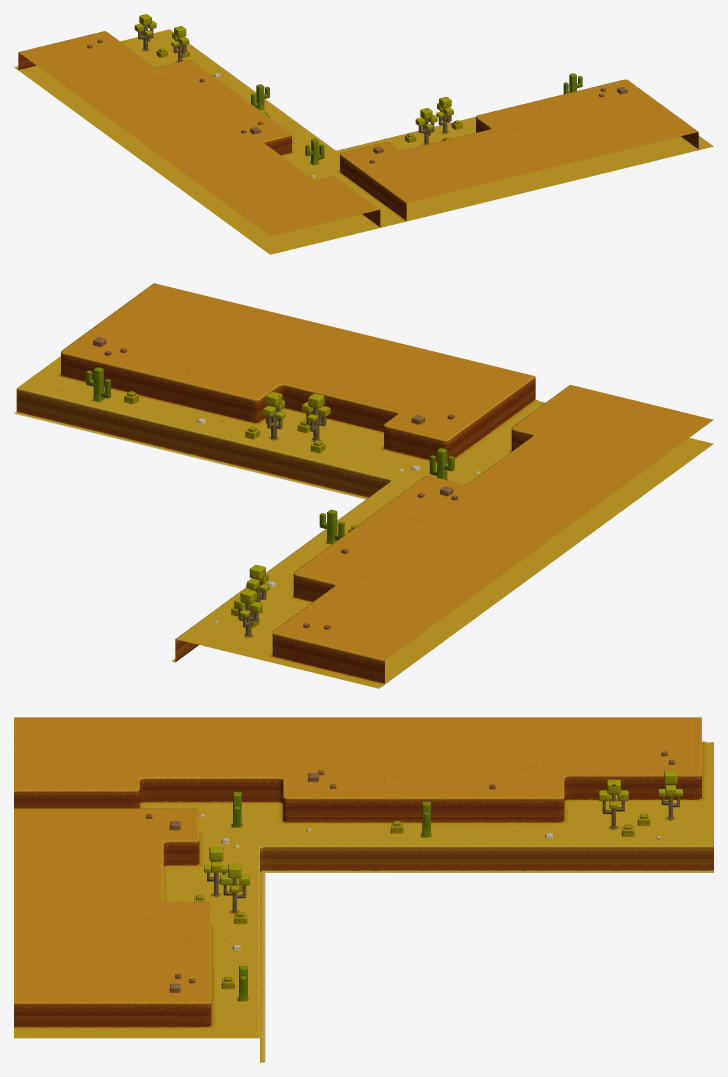
Rendered from C_mountain1_out_RU.fbx.
The picture shows the model from 3 angles, top to bottom: view 1: azimuth 30°, elevation 25°; view 2: azimuth 150°, elevation 25°; view 3: azimuth 270°, elevation 25°; orthographic projection. The views are drawn at different scales.
Visible parts, largest first — view 1: C_mountain1_out_RU; view 2: C_mountain1_out_RU; view 3: C_mountain1_out_RU.
Boxes of the visible parts, <box> form: C_mountain1_out_RU: <box>14,14,713,254</box>; C_mountain1_out_RU: <box>14,283,713,688</box>; C_mountain1_out_RU: <box>14,717,713,1062</box>.
Size of the model in its own units: 117 by 13.14 by 117.
1 material, 1 textured.
